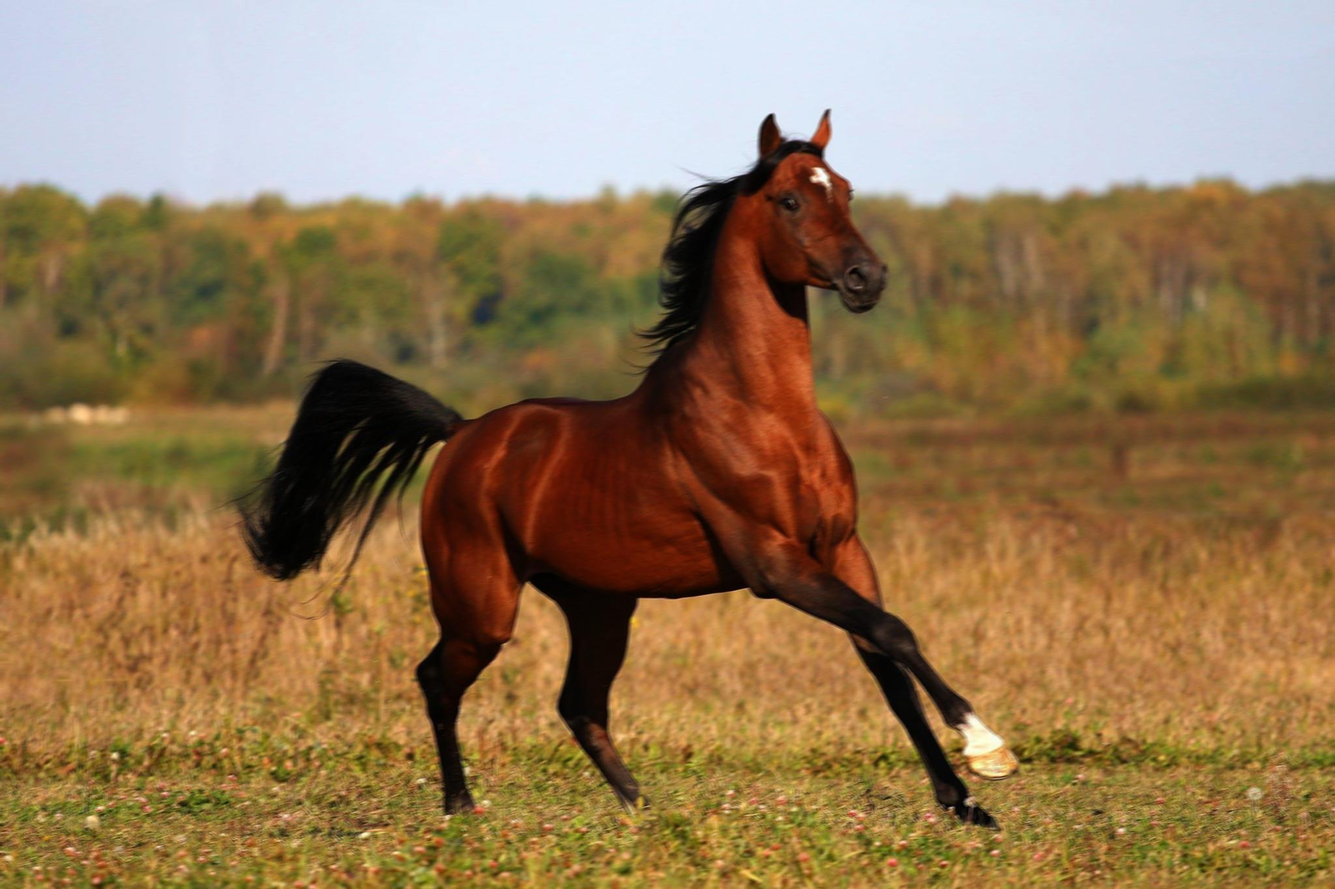horse: (217, 98, 1032, 841)
